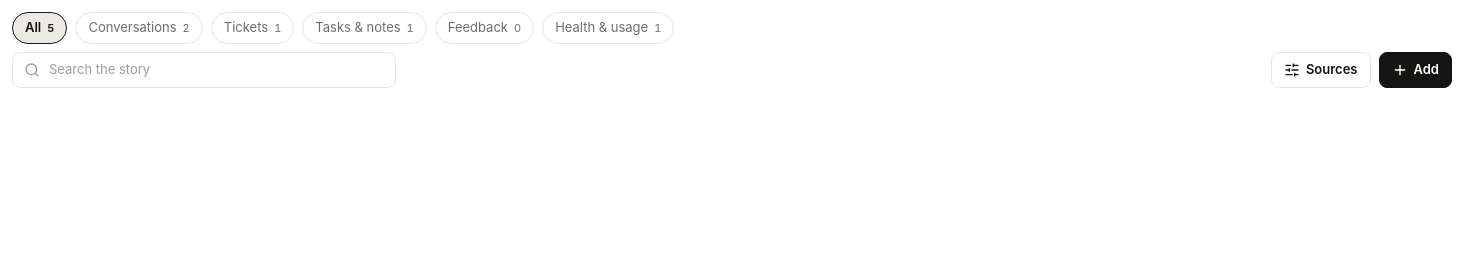
Scenario: StoryToolbar (spec §1.6) › + Add offers only the flows it is given (an account page has no meeting)
Click the button with aria-label "Add to the story".
click(1415, 70)  # box left=1378, top=52, right=1452, bottom=88
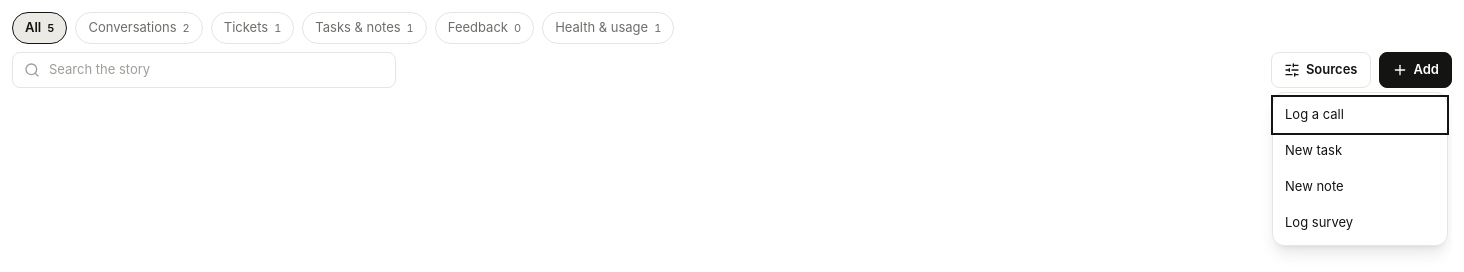
Check: the number of menu items is 4, box left=1273, top=97, right=1447, bottom=133; left=1273, top=133, right=1447, bottom=169; left=1273, top=169, right=1447, bottom=205; left=1273, top=205, right=1447, bottom=241
